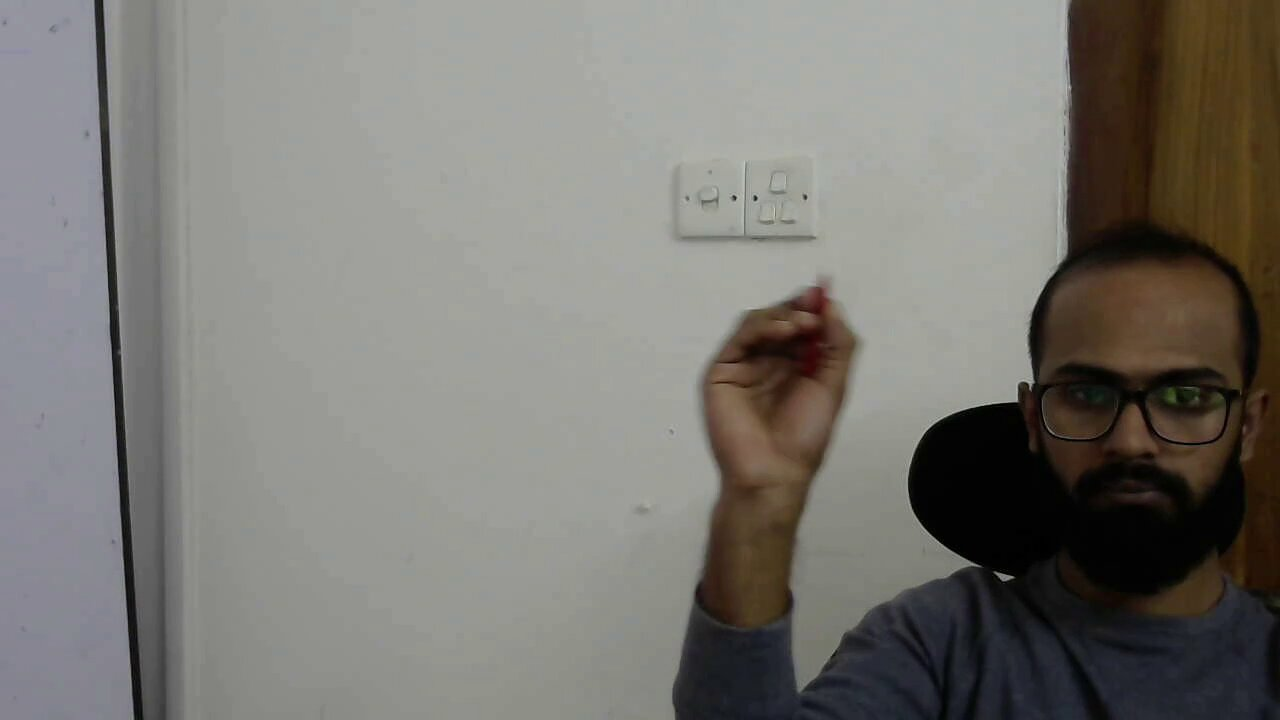pointer: (727, 273, 862, 410)
